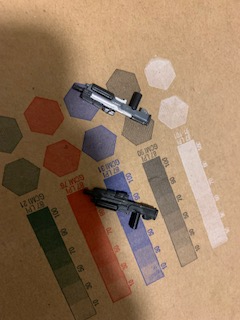rifle: (71, 77, 157, 129), (79, 182, 161, 231)
